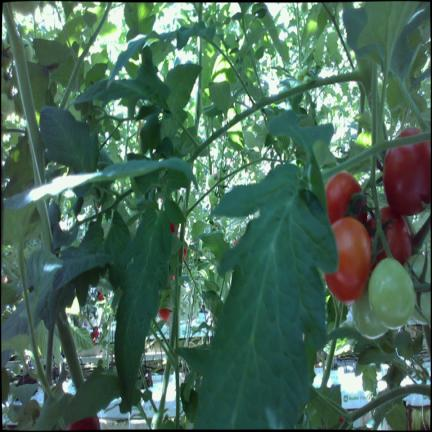6kp_petiole: (181, 194, 202, 233)
MainStem: (2, 2, 46, 187), (38, 200, 52, 250)
tomato: (383, 127, 430, 215), (324, 217, 371, 303), (369, 258, 414, 328), (365, 206, 411, 269), (326, 171, 367, 224), (351, 285, 387, 338), (67, 415, 100, 430), (2, 40, 12, 68), (2, 94, 14, 114), (22, 38, 32, 61), (1, 68, 10, 93), (158, 308, 170, 322), (209, 191, 217, 206), (208, 174, 215, 186), (297, 70, 304, 81), (218, 185, 224, 197), (303, 75, 310, 83), (302, 66, 307, 76), (220, 169, 224, 177)
